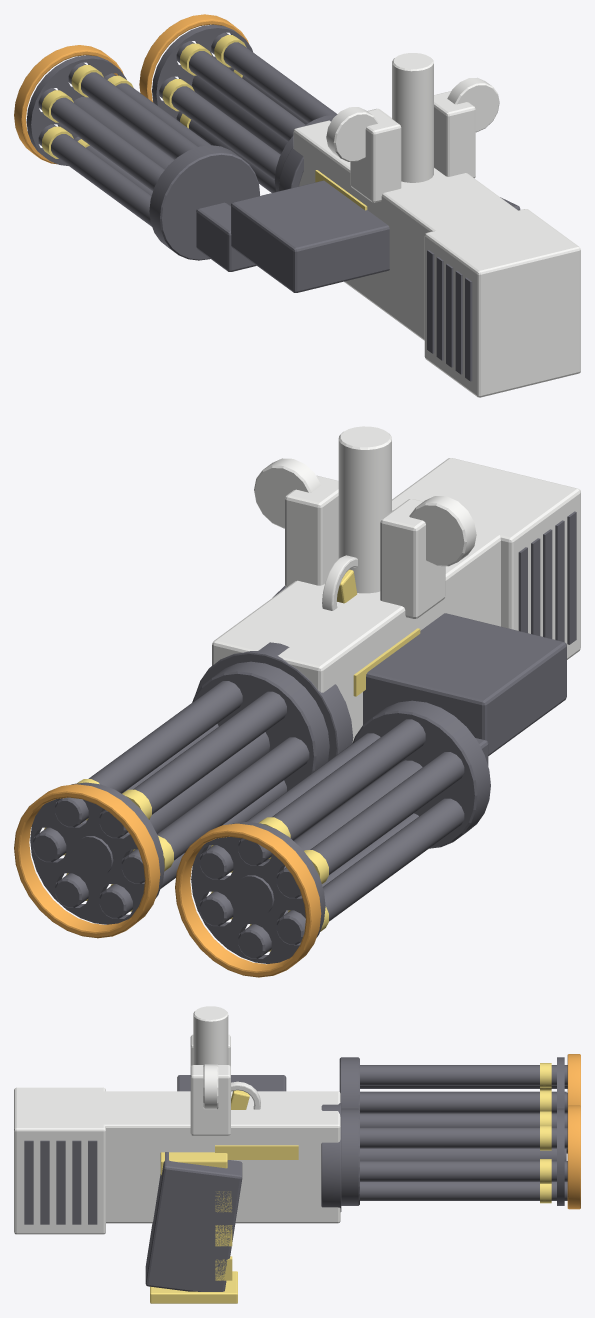
The picture shows the model from 3 angles, top to bottom: view 1: azimuth 30°, elevation 25°; view 2: azimuth 150°, elevation 25°; view 3: azimuth 270°, elevation 25°; orthographic projection. The views are drawn at different scales.
Parts seen in each view (by area): view 1: body, barrels_2, barrels, Twin bumper; view 2: body, barrels_2, barrels, Twin bumper; view 3: body, barrels, mag, barrels_2, Twin bumper.
Part boxes in pixels (left/top/right/bottom): body: left=139, top=14, right=580, bottom=397; barrels_2: left=26, top=55, right=259, bottom=260; barrels: left=152, top=24, right=337, bottom=192; Twin bumper: left=14, top=45, right=123, bottom=164; body: left=14, top=426, right=580, bottom=938; barrels_2: left=191, top=700, right=490, bottom=963; barrels: left=30, top=661, right=329, bottom=924; Twin bumper: left=175, top=823, right=321, bottom=977; body: left=14, top=1006, right=580, bottom=1234; barrels: left=341, top=1108, right=567, bottom=1205; mag: left=145, top=1152, right=242, bottom=1303; barrels_2: left=339, top=1057, right=567, bottom=1113; Twin bumper: left=567, top=1054, right=580, bottom=1105.
Bounding box in the file's own units: 0.305 × 0.338 × 0.677.
